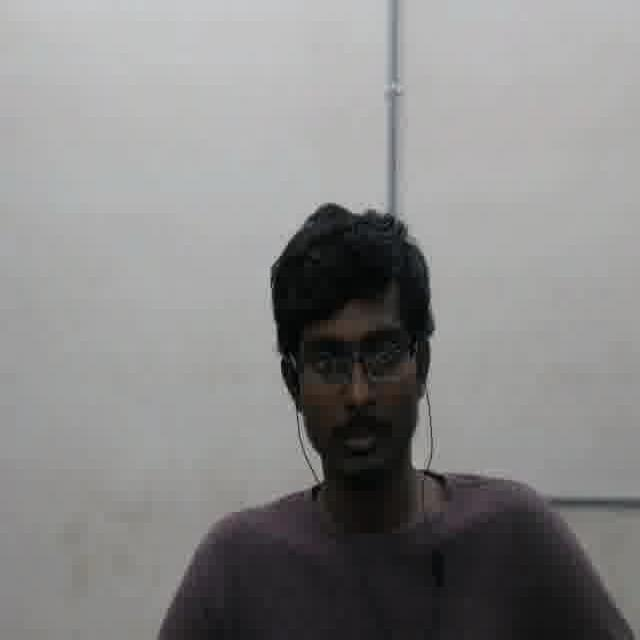Engaged: (296, 292, 415, 481)
